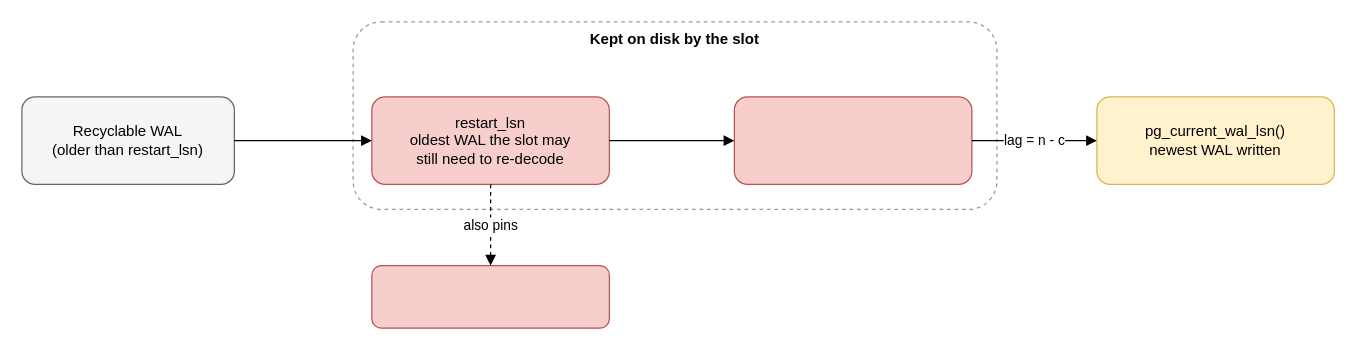
The diagram is 1356 pixels wide and 350 high, and some of its shapes have lost their labels. The shapes that lost their labels are listed below. From the top down, each one's box as (x1, y1, x2, y2) in pixels, then its label:
(733, 96, 972, 184): confirmed_flush_lsn subscriber has durably applied up to here
(371, 264, 609, 328): catalog_xmin: oldest catalog row version pinned
